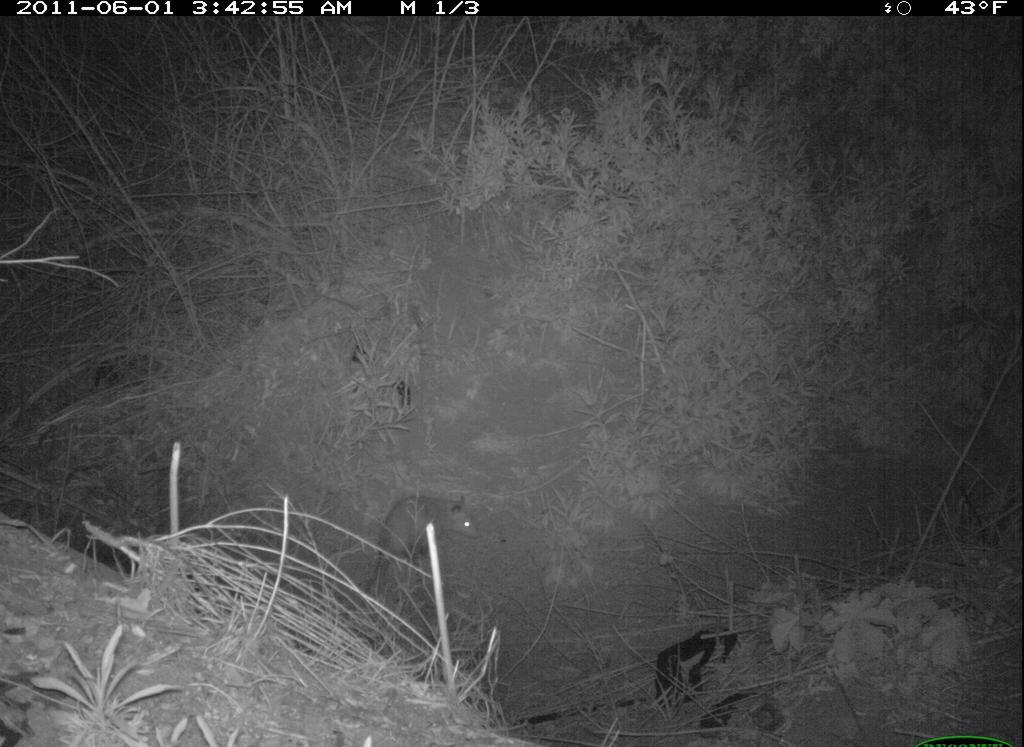opossum: (355, 491, 491, 610)
